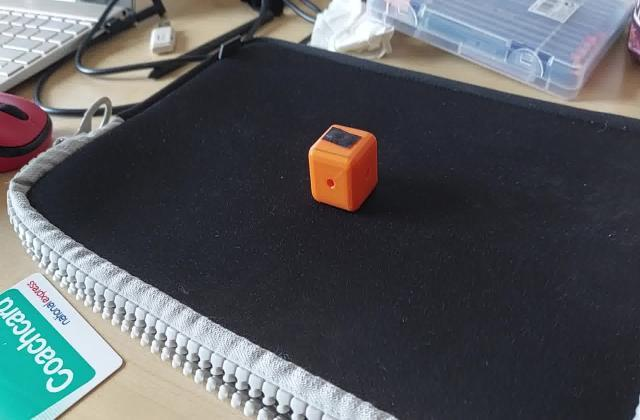black: (321, 124, 362, 153)
cube: (307, 120, 382, 214)
